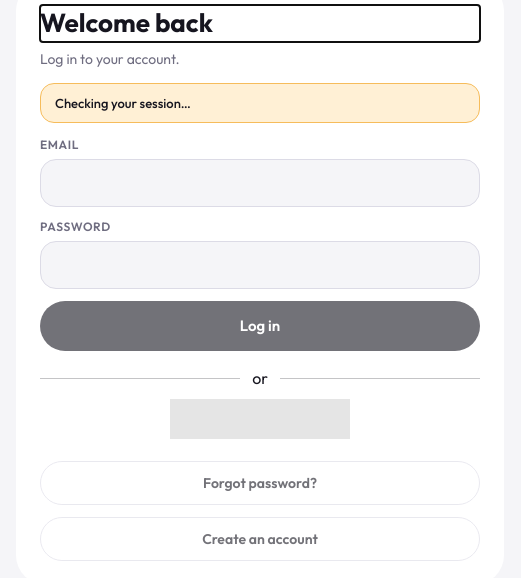
Test: authentication reliability › shows confirmation guidance and uses the current production path
(page scrolled)
Expected: the button "Log in" is enabled, [40,301,480,351]
Click the button "Create an account" at (260, 539), box [40,517,480,561]
(page scrolled)
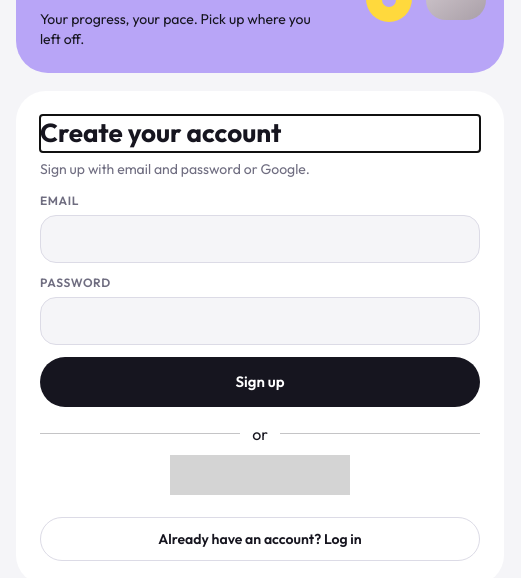
Type "person@example.com" into the field labelled "Email" at (260, 239), box [40,215,480,263]
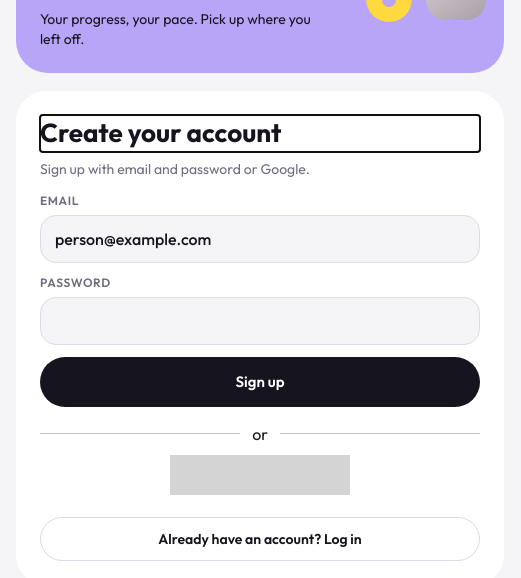
Type "password" into the password field labelled "Password" at (260, 321), box [40,297,480,345]
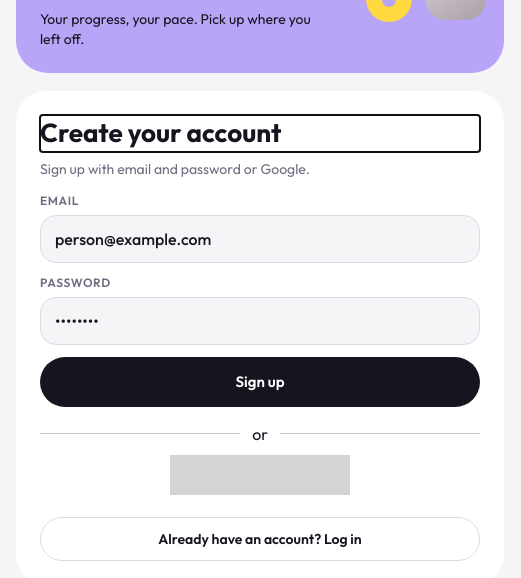
Click the button "Sign up" at (260, 382), box [40,357,480,407]
(page scrolled)
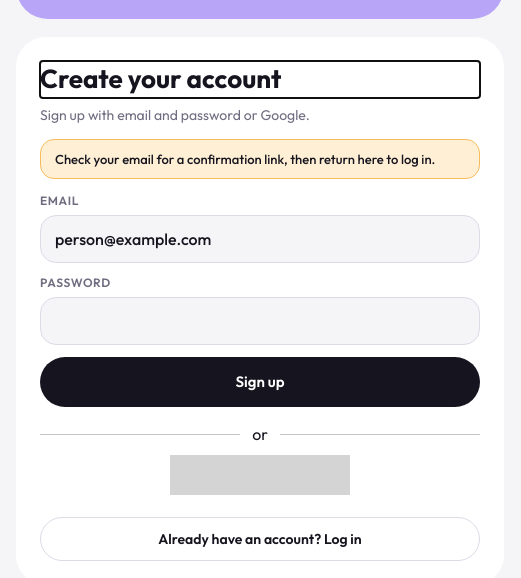
Result: the text "Check your email for a confirmation link, then return here to log in." is shown at [40,139,480,179]
